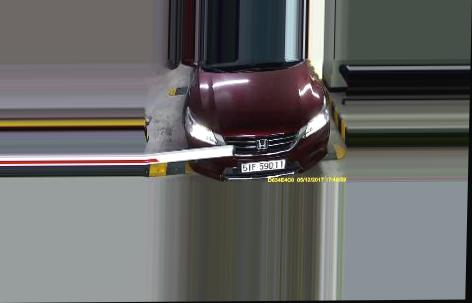License_Plate: (241, 159, 289, 174)
